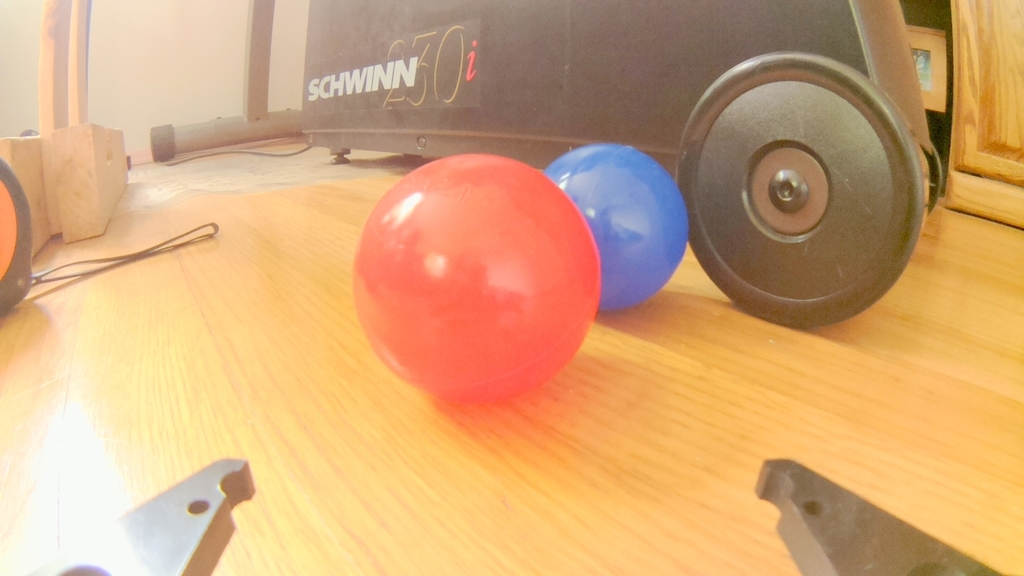ball: (545, 141, 687, 310)
